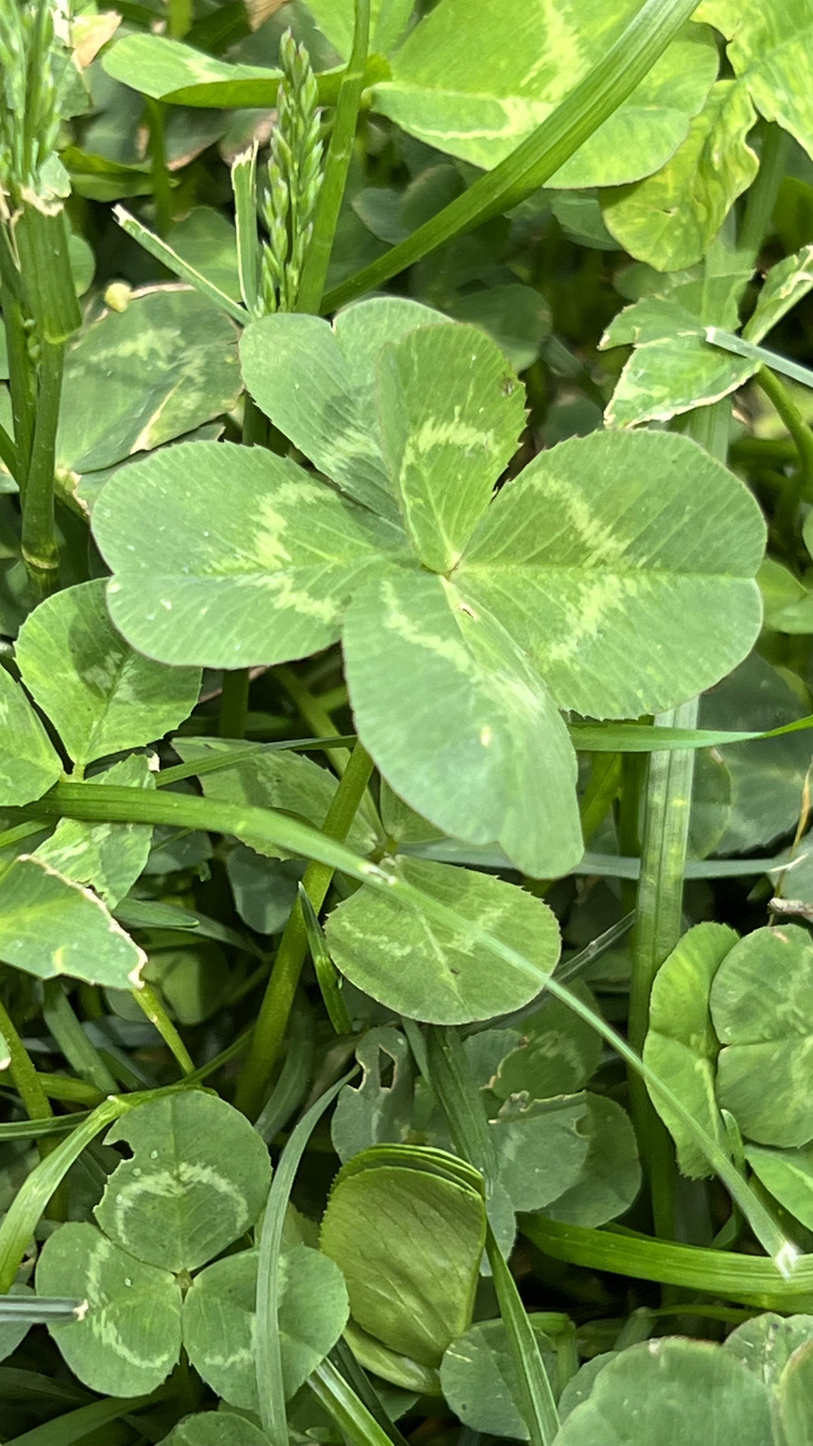5-Leaf-Clovers: (85, 299, 767, 855)
